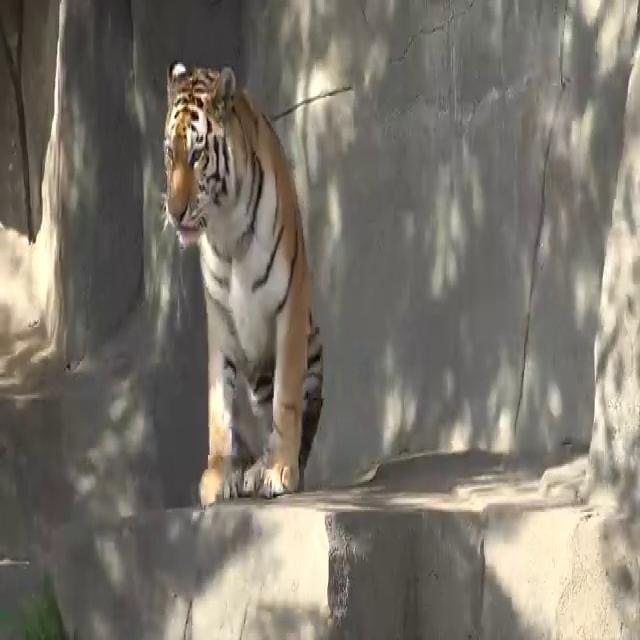tiger: (162, 57, 324, 506)
